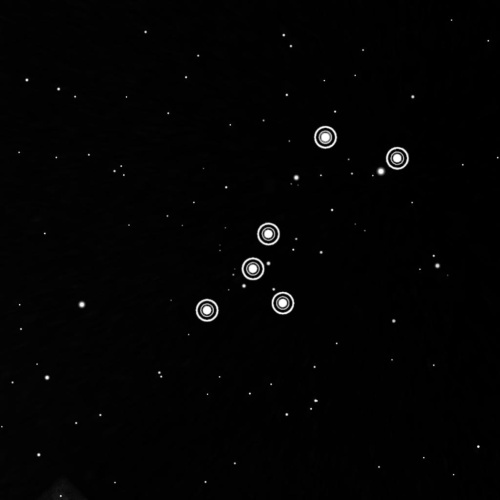canis_major: (189, 118, 418, 331)
